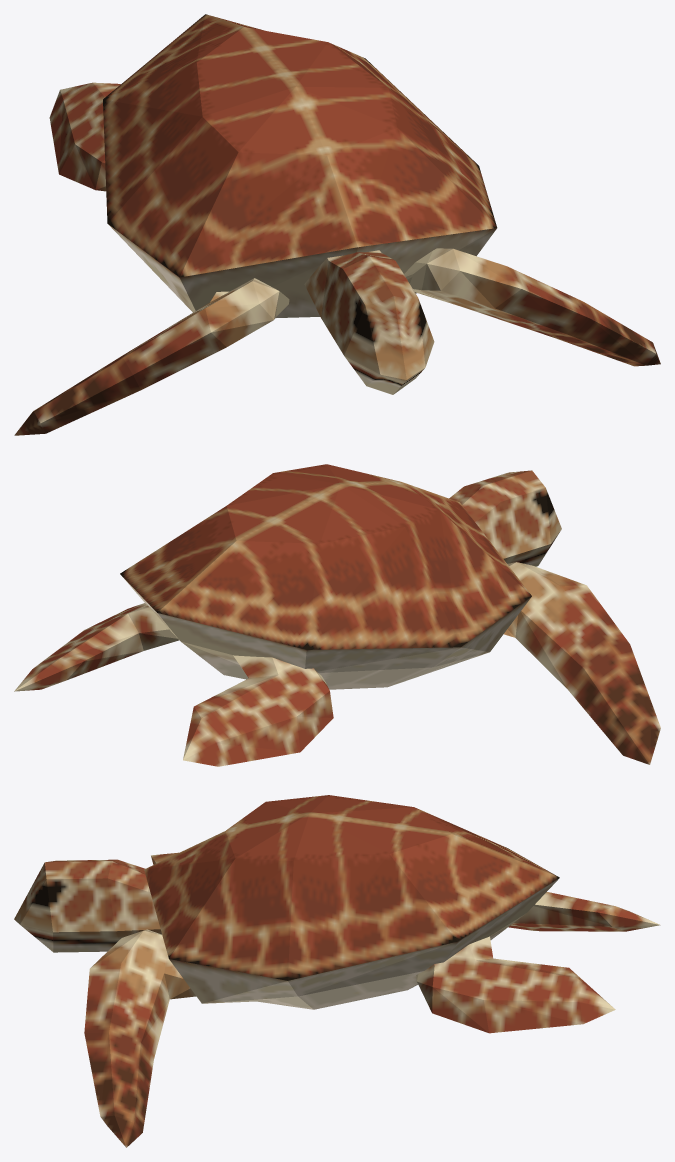
File: Sea Turtle.obj
3 renders of one model, top to bottom at view 1: azimuth 30°, elevation 25°; view 2: azimuth 150°, elevation 25°; view 3: azimuth 270°, elevation 25°, orthographic. The views are drawn at different scales.
Parts seen in each view (by area): view 1: Mesh-29; view 2: Mesh-29; view 3: Mesh-29.
Boxes of the visible parts, box(x1,y1,x2,y2) form: Mesh-29: box(14, 14, 660, 435); Mesh-29: box(14, 464, 660, 766); Mesh-29: box(14, 795, 660, 1147).
Size of the model in its own units: 6.21 by 2.74 by 7.12.
